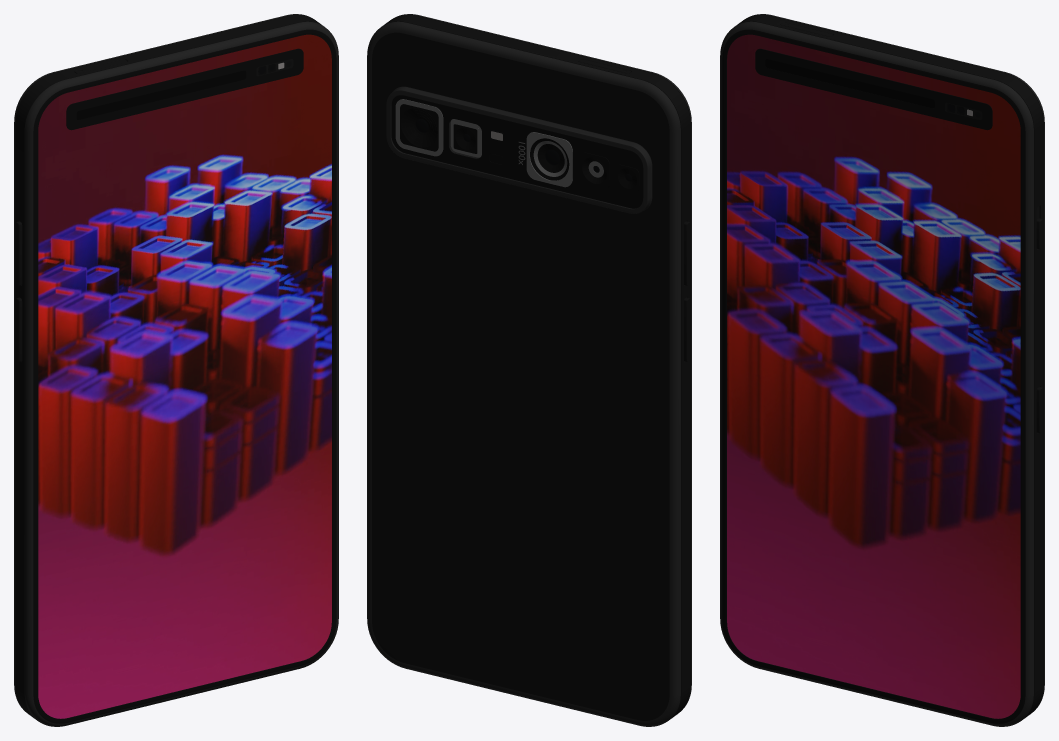
The picture shows the model from 3 angles, left to right: view 1: azimuth 30°, elevation 25°; view 2: azimuth 150°, elevation 25°; view 3: azimuth 330°, elevation 25°; orthographic projection.
Visible parts, largest first — view 1: Body, Cameras; view 2: Body, Cameras; view 3: Body, Cameras.
Part boxes in pixels (x1,y1,x2,y2): Body: [14, 14, 338, 726]; Cameras: [66, 48, 303, 130]; Body: [367, 14, 691, 726]; Cameras: [386, 86, 652, 213]; Body: [720, 14, 1044, 726]; Cameras: [755, 48, 992, 130].
Bounding box in the file's own units: 203 × 394 × 23.45.
Materials: 13 (1 with a texture image).
